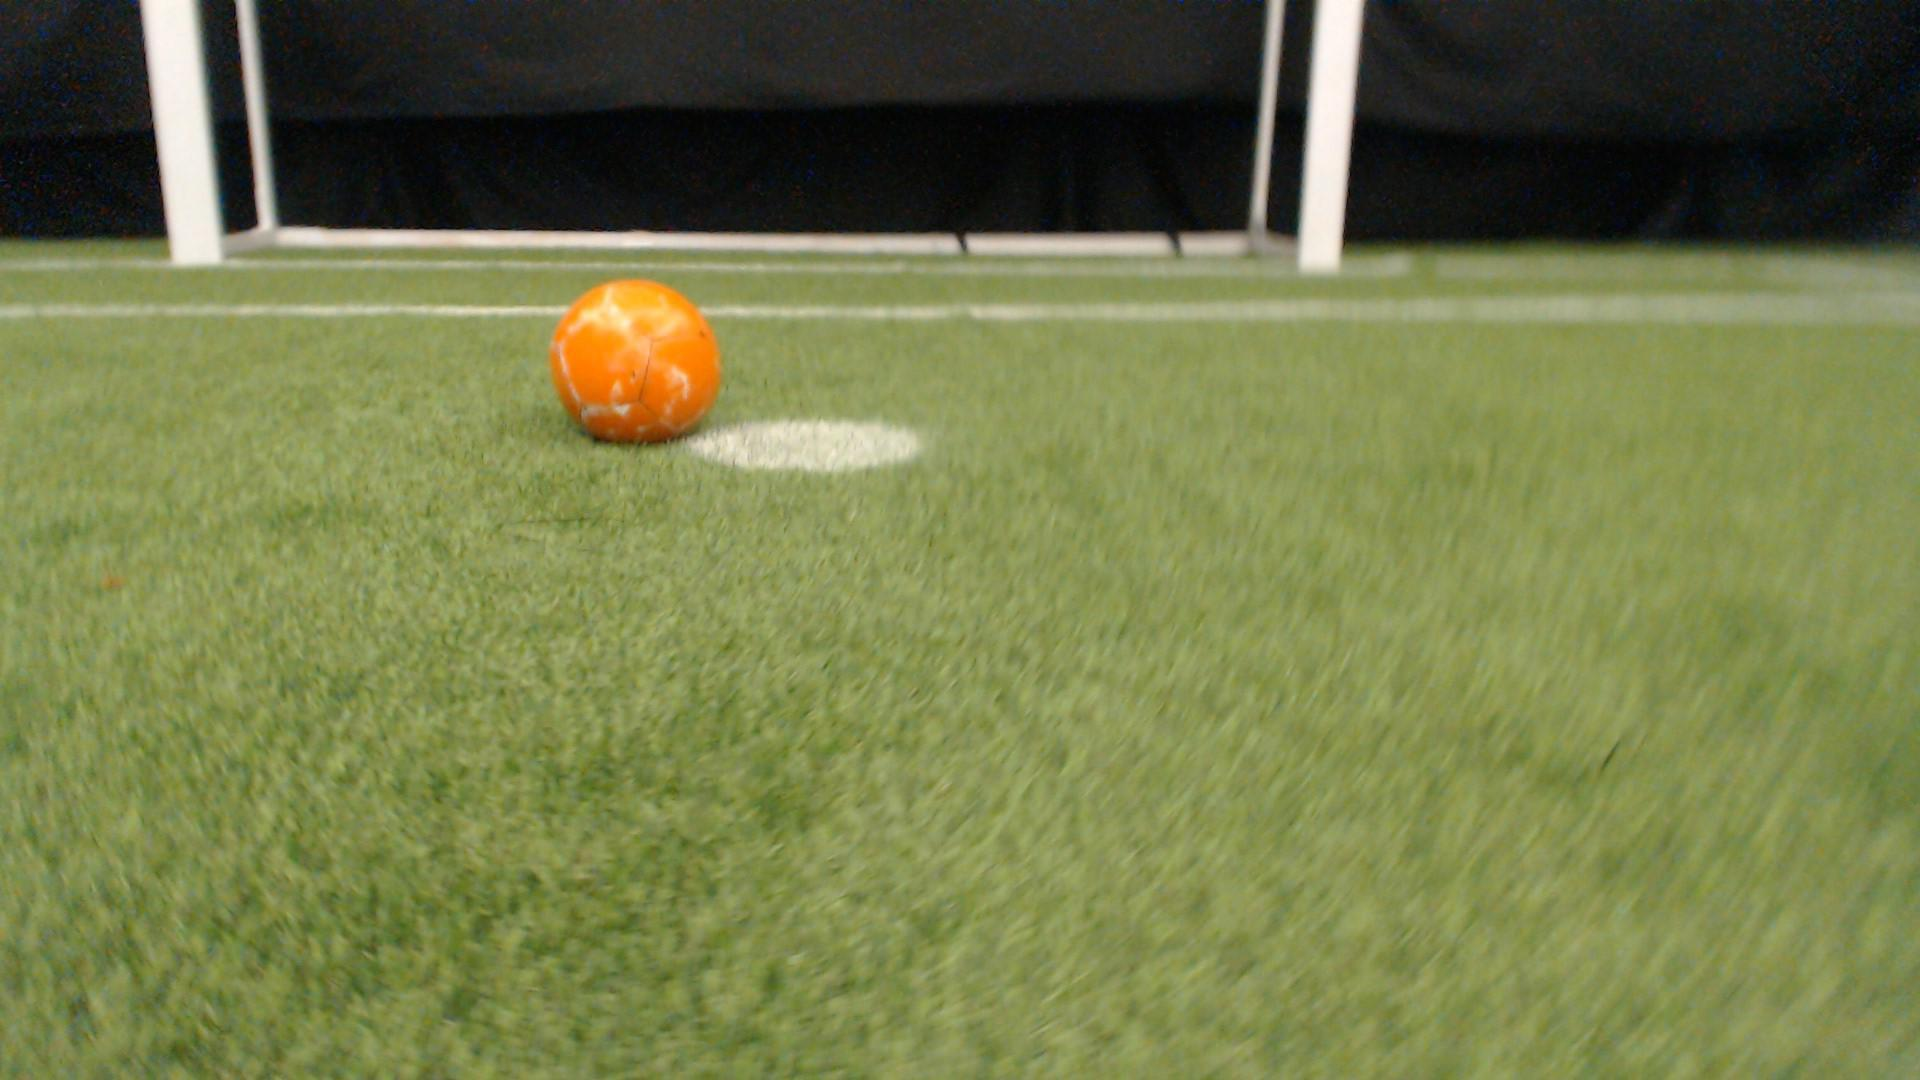bola: (531, 269, 754, 454)
